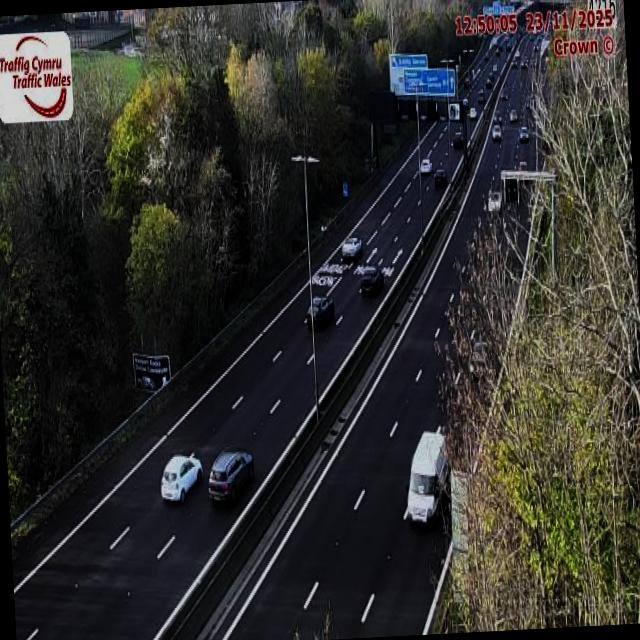foliage: (0, 0, 386, 511), (438, 29, 640, 631)
